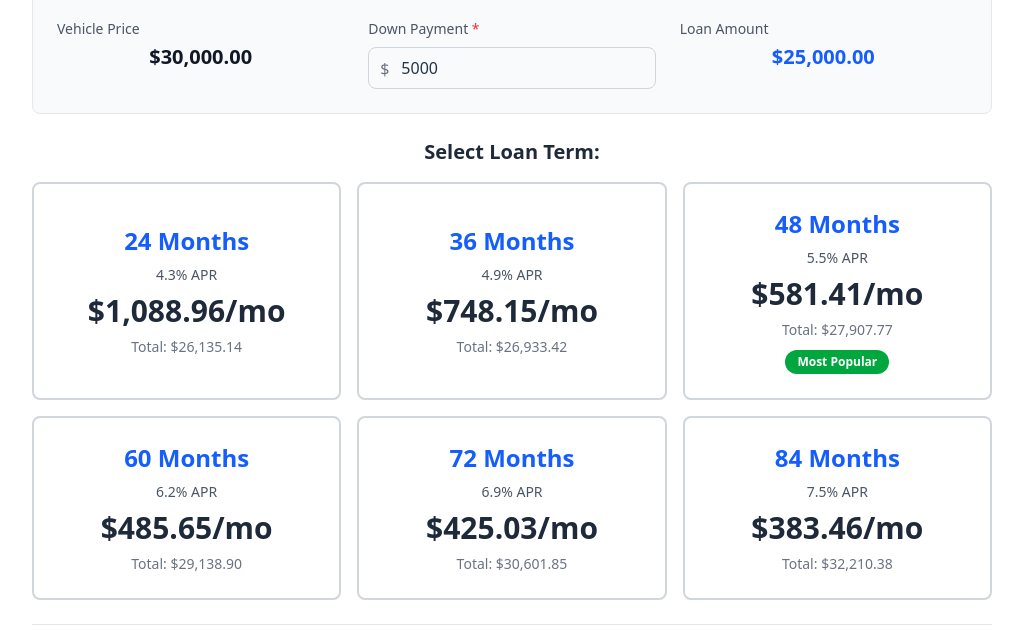
LoanDetails Component › Loan Term Selection › should display monthly payment when loan term is selected
Click the button "48 Months" at (837, 291), box x1=683 y1=182 x2=992 y2=400
(page scrolled)
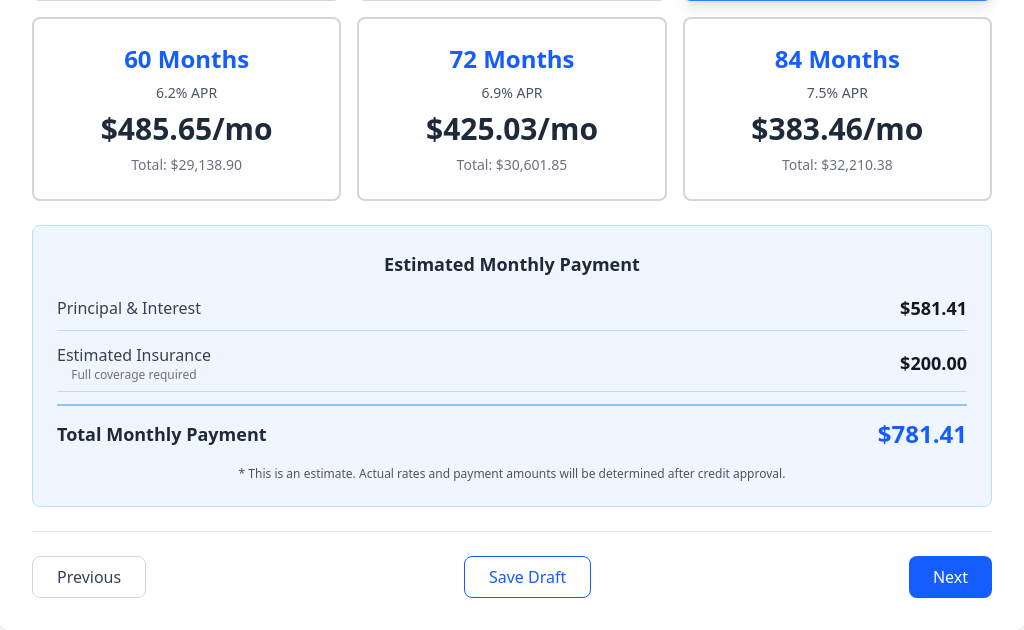
Now the heading "Estimated Monthly Payment" is shown, box x1=384 y1=252 x2=640 y2=276
Now the text "Principal & Interest" is shown, box x1=57 y1=296 x2=201 y2=320
Now the text "Estimated Insurance" is shown, box x1=57 y1=344 x2=211 y2=366
